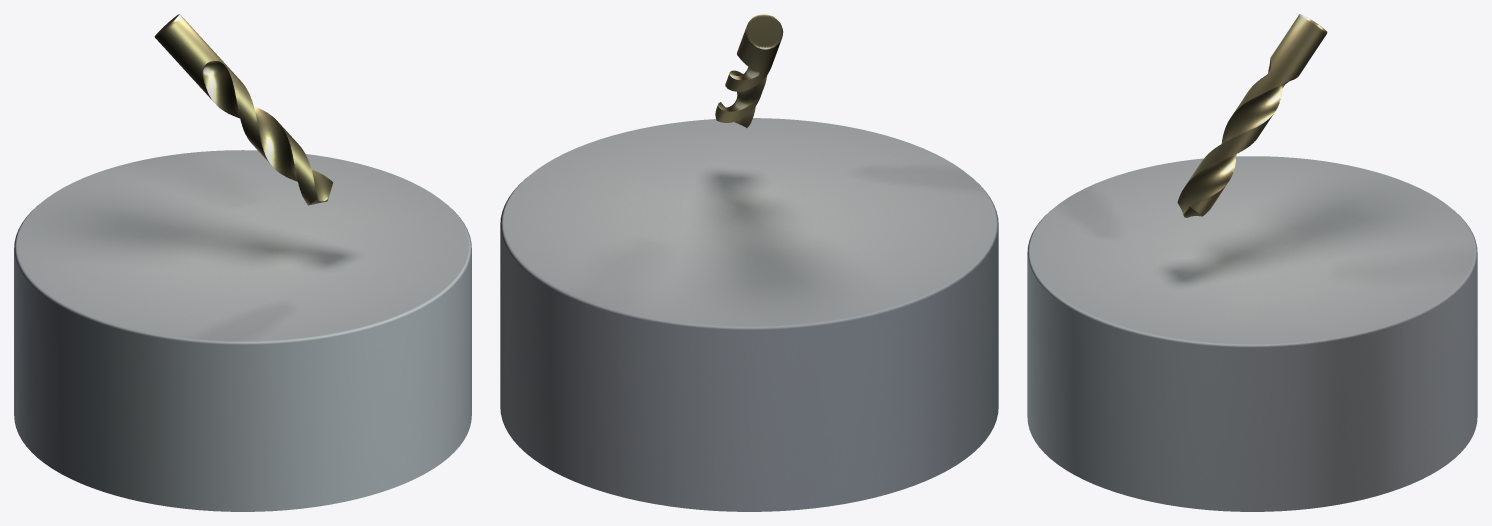
File: drillbit.glb
3 views of the same model, side by side, from view 1: azimuth 30°, elevation 25°; view 2: azimuth 150°, elevation 25°; view 3: azimuth 270°, elevation 25° (orthographic). The views are drawn at different scales.
Parts seen in each view (by area): view 1: Plane, 6mmDrillbit_3; view 2: Plane, 6mmDrillbit_3; view 3: Plane, 6mmDrillbit_3.
Part boxes in pixels (bbox=[...]): Plane: bbox=[14, 150, 471, 511]; 6mmDrillbit_3: bbox=[154, 14, 333, 205]; Plane: bbox=[500, 118, 998, 511]; 6mmDrillbit_3: bbox=[715, 14, 783, 127]; Plane: bbox=[1027, 156, 1477, 511]; 6mmDrillbit_3: bbox=[1177, 14, 1327, 217].
Bounding box in the file's own units: 2 × 1.88 × 2.
2 materials, 2 textured.
